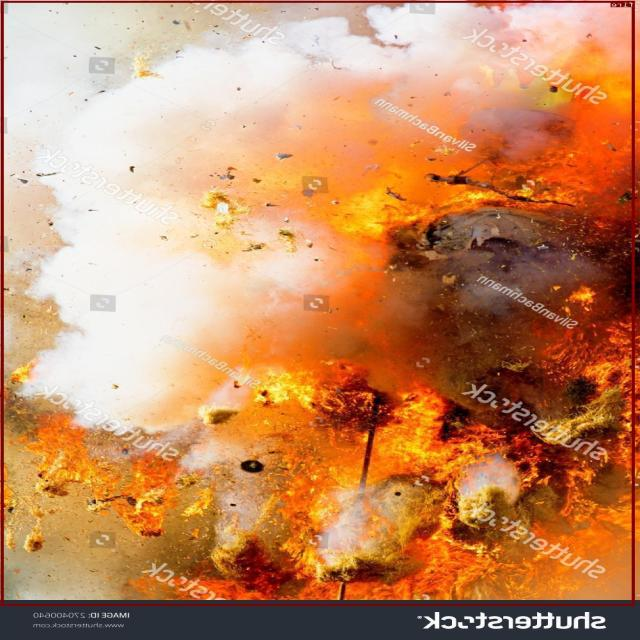fire: (2, 1, 636, 606)
